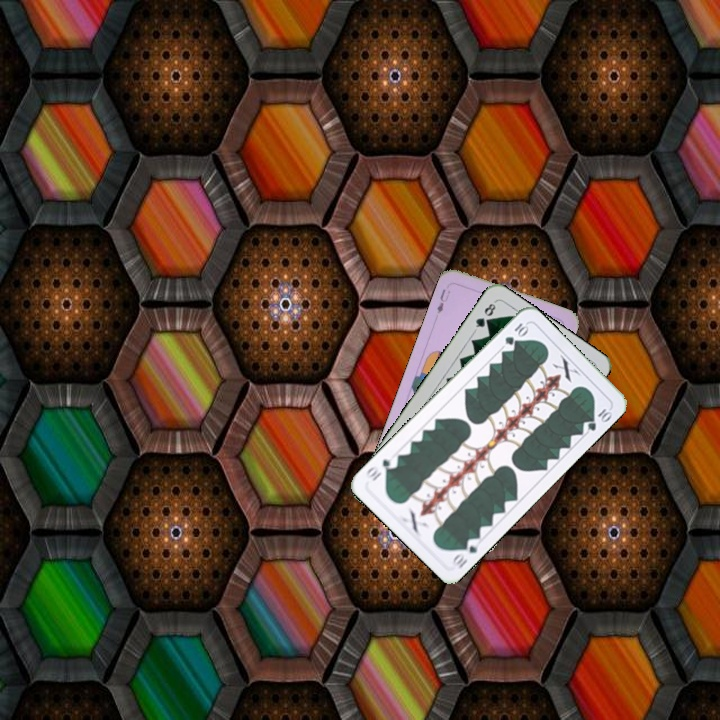EU: (433, 285, 453, 316)
G10: (448, 534, 483, 572), (501, 319, 531, 348)
G8: (471, 298, 498, 334)
